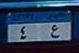4: (19, 25, 28, 40)
ain: (49, 24, 60, 39)
